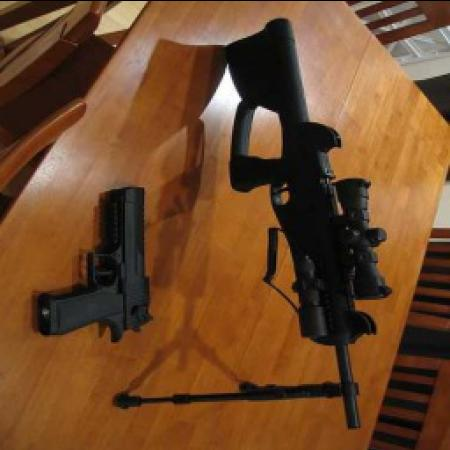2: (201, 18, 396, 438)
Pistol: (30, 166, 163, 358)
